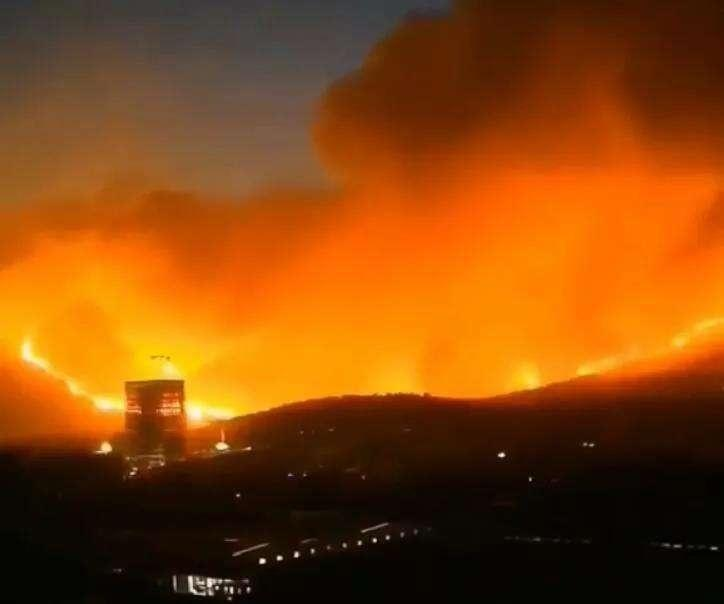fire: (273, 319, 722, 407), (12, 325, 243, 456)
